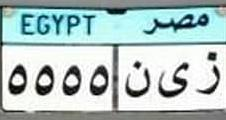5: (59, 62, 84, 100), (32, 64, 57, 101), (6, 61, 29, 101), (88, 64, 111, 100)
noon: (124, 58, 152, 100)
yaa: (155, 59, 192, 102)
zay: (195, 49, 221, 102)
